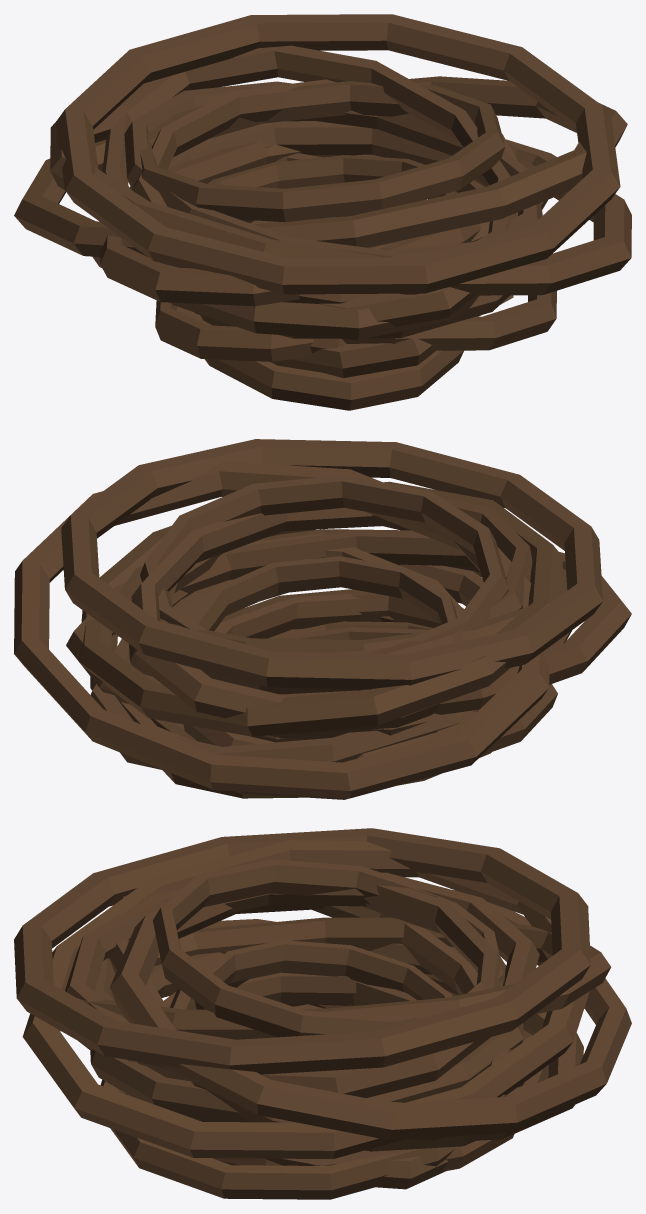
File: Bird Nest.fbx
3 views of the same model, one above another, from view 1: azimuth 30°, elevation 25°; view 2: azimuth 150°, elevation 25°; view 3: azimuth 270°, elevation 25° (orthographic).
Visible parts, largest first — view 1: Bird Nest; view 2: Bird Nest; view 3: Bird Nest.
Boxes of the visible parts, <box> form: Bird Nest: <box>14,14,631,410</box>; Bird Nest: <box>14,439,631,799</box>; Bird Nest: <box>14,828,631,1199</box>.
Bounding box in the file's own units: 233 × 89.27 × 236.
